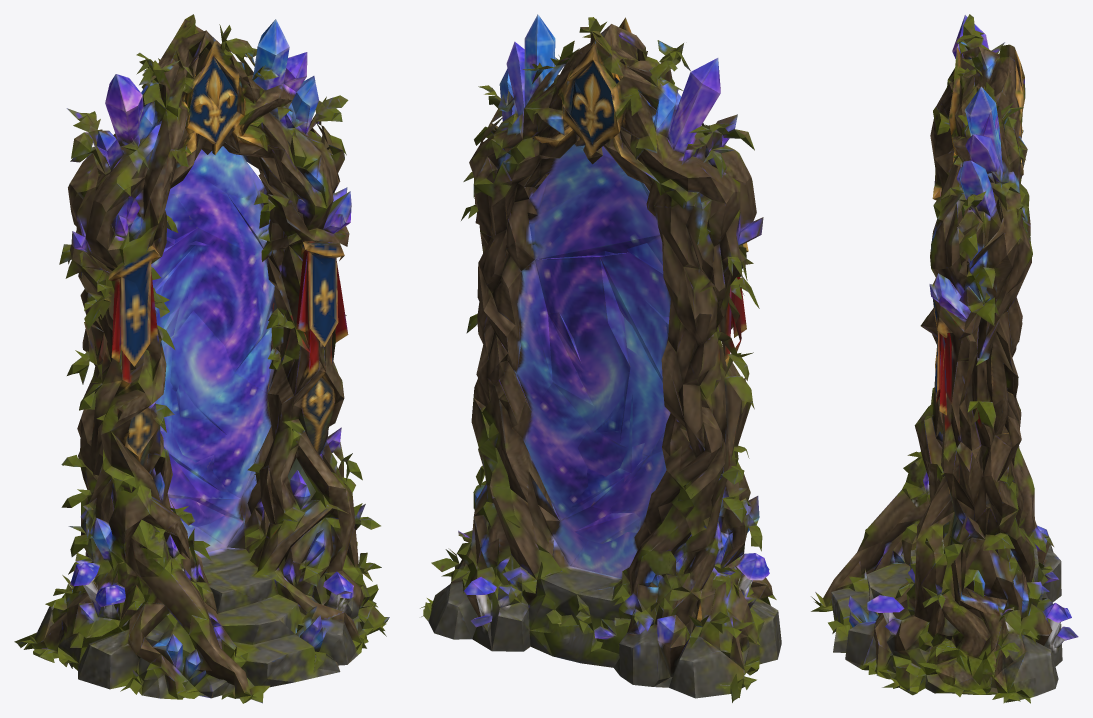
Rendered from hideout-portal.glb.
The picture shows the model from 3 angles, left to right: view 1: azimuth 30°, elevation 25°; view 2: azimuth 150°, elevation 25°; view 3: azimuth 270°, elevation 25°; orthographic projection. The views are drawn at different scales.
Visible parts, largest first — view 1: output_unwrapped; view 2: output_unwrapped; view 3: output_unwrapped.
Boxes of the visible parts, box(x1,y1,x2,y2) form: output_unwrapped: box(14, 14, 389, 703); output_unwrapped: box(420, 14, 781, 702); output_unwrapped: box(811, 14, 1078, 703).
Bounding box in the file's own units: 1.08 × 1.91 × 0.7921.
1 material, 1 textured.
